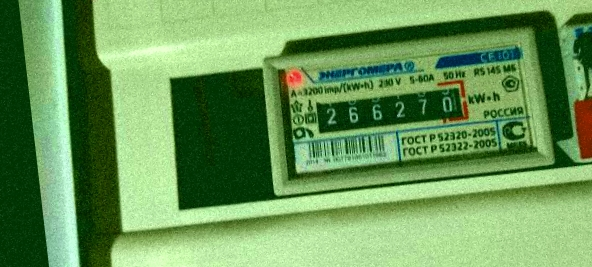0: (439, 92, 452, 113)
2: (322, 103, 339, 126), (392, 98, 406, 119)
6: (346, 103, 360, 124), (369, 100, 383, 120)
7: (415, 95, 429, 115)
screen: (301, 71, 479, 146)
